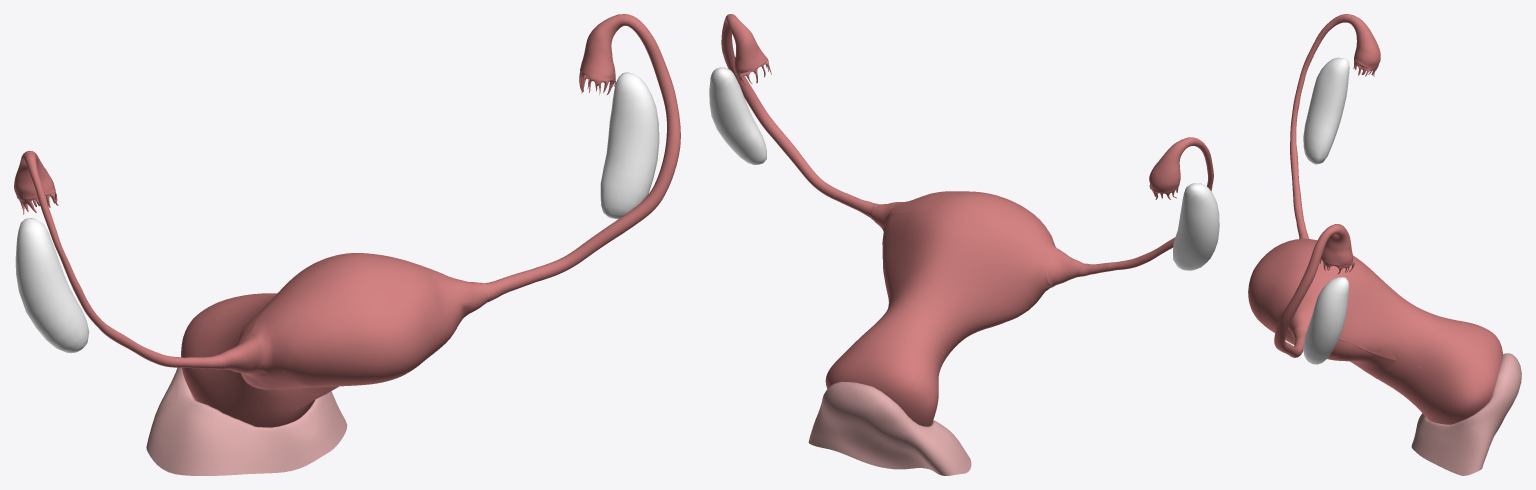
Rendered from female-reproductive.glb.
The picture shows the model from 3 angles, left to right: view 1: azimuth 30°, elevation 25°; view 2: azimuth 150°, elevation 25°; view 3: azimuth 270°, elevation 25°; orthographic projection. The views are drawn at different scales.
Visible parts, largest first — view 1: VH_F_fundus_of_uterus, VH_F_cervicovaginal_junction, VH_F_cervix, VH_F_left_ovary, VH_F_right_ovary, VH_F_ampulla_of_uterine_tube_L, VH_F_ampulla_of_uterine_tube_R, VH_F_cornua, VH_F_uterine_tube_infundibulum_L, VH_F_posterior_wall_of_uterus, VH_F_uterine_tube_infundibulum_R, VH_F_lower_uterine_segment (+2 smaller); view 2: VH_F_body_of_uterus, VH_F_cervicovaginal_junction, VH_F_cervix, VH_F_fundus_of_uterus, VH_F_left_ovary, VH_F_right_ovary, VH_F_ampulla_of_uterine_tube_L, VH_F_lower_uterine_segment, VH_F_cornua, VH_F_uterine_tube_infundibulum_R, VH_F_uterine_tube_infundibulum_L, VH_F_ampulla_of_uterine_tube_R; view 3: VH_F_cervix, VH_F_cervicovaginal_junction, VH_F_body_of_uterus, VH_F_fundus_of_uterus, VH_F_right_ovary, VH_F_left_ovary, VH_F_lower_uterine_segment, VH_F_ampulla_of_uterine_tube_L, VH_F_ampulla_of_uterine_tube_R, VH_F_uterine_tube_infundibulum_R, VH_F_uterine_tube_infundibulum_L, VH_F_posterior_wall_of_uterus (+2 smaller).
Boxes of the visible parts, x1,y1,x2,y2 form: VH_F_fundus_of_uterus: [248, 253, 465, 385]; VH_F_cervicovaginal_junction: [146, 367, 347, 475]; VH_F_cervix: [181, 293, 314, 427]; VH_F_left_ovary: [600, 72, 659, 219]; VH_F_right_ovary: [15, 218, 89, 353]; VH_F_ampulla_of_uterine_tube_L: [532, 14, 680, 281]; VH_F_ampulla_of_uterine_tube_R: [23, 151, 187, 367]; VH_F_cornua: [220, 278, 487, 373]; VH_F_uterine_tube_infundibulum_L: [580, 14, 621, 78]; VH_F_posterior_wall_of_uterus: [252, 328, 456, 397]; VH_F_uterine_tube_infundibulum_R: [14, 150, 55, 199]; VH_F_lower_uterine_segment: [240, 294, 321, 406]; VH_F_body_of_uterus: [882, 211, 1052, 342]; VH_F_cervicovaginal_junction: [808, 381, 971, 475]; VH_F_cervix: [825, 318, 944, 426]; VH_F_fundus_of_uterus: [887, 191, 1056, 255]; VH_F_left_ovary: [709, 67, 766, 164]; VH_F_right_ovary: [1173, 183, 1219, 270]; VH_F_ampulla_of_uterine_tube_L: [721, 14, 841, 200]; VH_F_lower_uterine_segment: [878, 298, 961, 362]; VH_F_cornua: [871, 202, 1083, 286]; VH_F_uterine_tube_infundibulum_R: [1149, 139, 1187, 192]; VH_F_uterine_tube_infundibulum_L: [728, 18, 766, 73]; VH_F_ampulla_of_uterine_tube_R: [1114, 137, 1213, 269]; VH_F_cervix: [1399, 316, 1502, 424]; VH_F_cervicovaginal_junction: [1411, 353, 1521, 475]; VH_F_body_of_uterus: [1329, 255, 1414, 365]; VH_F_fundus_of_uterus: [1248, 238, 1341, 341]; VH_F_right_ovary: [1303, 57, 1349, 164]; VH_F_left_ovary: [1303, 277, 1349, 364]; VH_F_lower_uterine_segment: [1378, 305, 1439, 391]; VH_F_ampulla_of_uterine_tube_L: [1274, 224, 1339, 357]; VH_F_ampulla_of_uterine_tube_R: [1290, 14, 1353, 220]; VH_F_uterine_tube_infundibulum_R: [1350, 15, 1380, 67]; VH_F_uterine_tube_infundibulum_L: [1321, 224, 1353, 265]; VH_F_posterior_wall_of_uterus: [1263, 324, 1395, 378].
Bounding box in the file's own units: 0.1274 × 0.083 × 0.0629.
